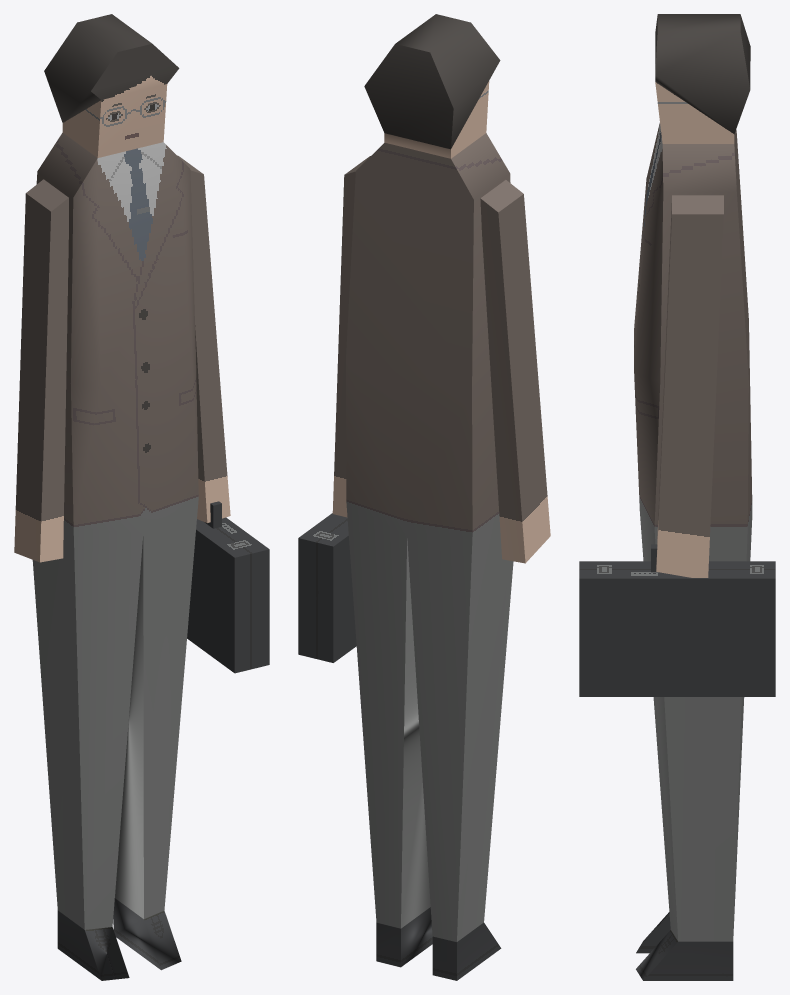
Rendered from 021b_Tall_Businessman.glb.
The picture shows the model from 3 angles, left to right: view 1: azimuth 30°, elevation 25°; view 2: azimuth 150°, elevation 25°; view 3: azimuth 270°, elevation 25°; orthographic projection. The views are drawn at different scales.
Parts seen in each view (by area): view 1: part_0; view 2: part_0; view 3: part_0.
Boxes of the visible parts, x1,y1,x2,y2 form: part_0: [14, 14, 269, 980]; part_0: [298, 14, 550, 980]; part_0: [579, 14, 775, 980].
Size of the model in its own units: 0.5233 by 2.39 by 0.4523.
1 material, 1 textured.
